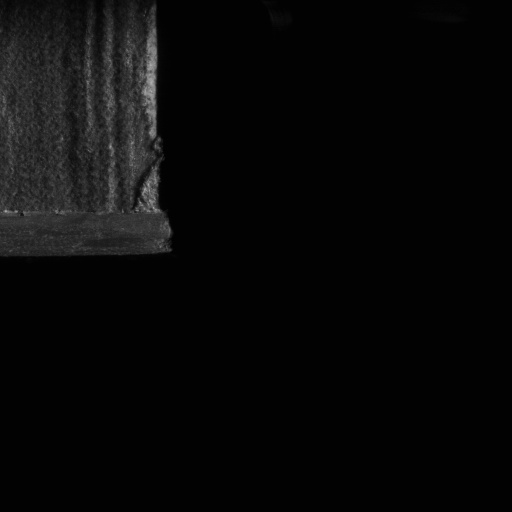bengque: (129, 153, 170, 219)
